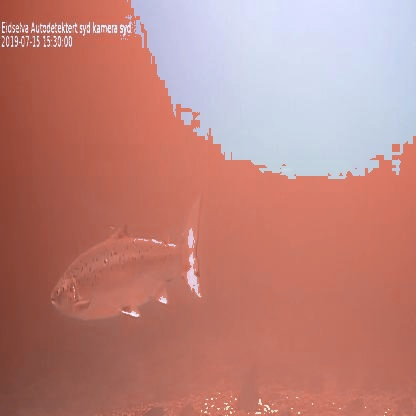salmon: (47, 189, 206, 328)
